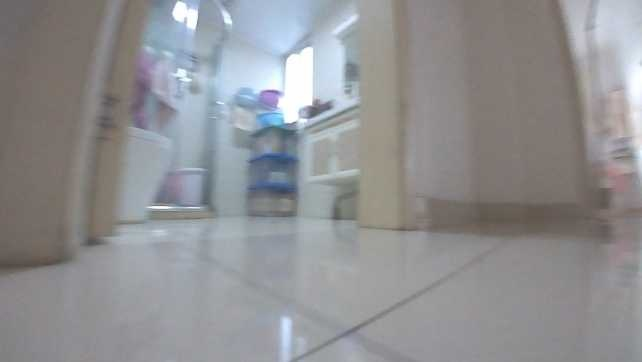toilet: (108, 123, 177, 225)
washstand: (300, 94, 364, 190)
